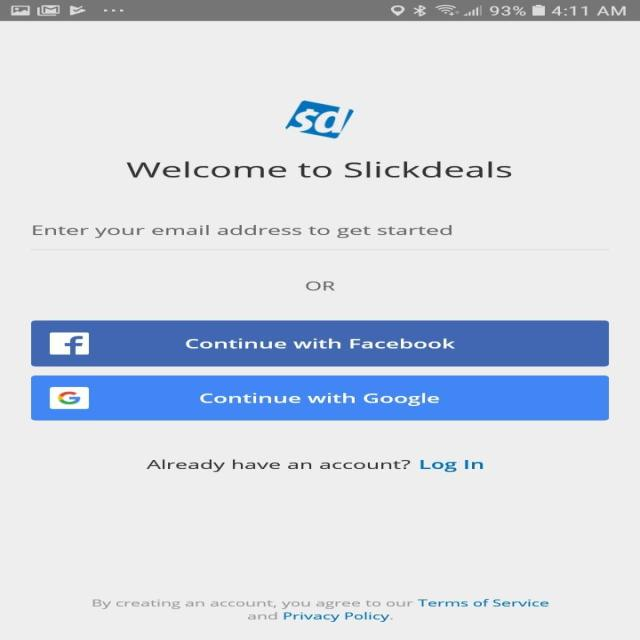EditText: (30, 224, 609, 250)
Image: (284, 99, 354, 139)
Text: (91, 598, 548, 622), (125, 161, 511, 178), (32, 224, 452, 238), (146, 459, 410, 472), (419, 459, 484, 472), (304, 280, 334, 291)
TextButton: (31, 320, 609, 367), (31, 375, 609, 420)
